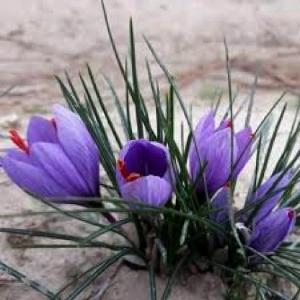Saffron: (2, 106, 109, 214), (187, 109, 251, 208), (111, 138, 179, 222), (242, 206, 296, 274)
